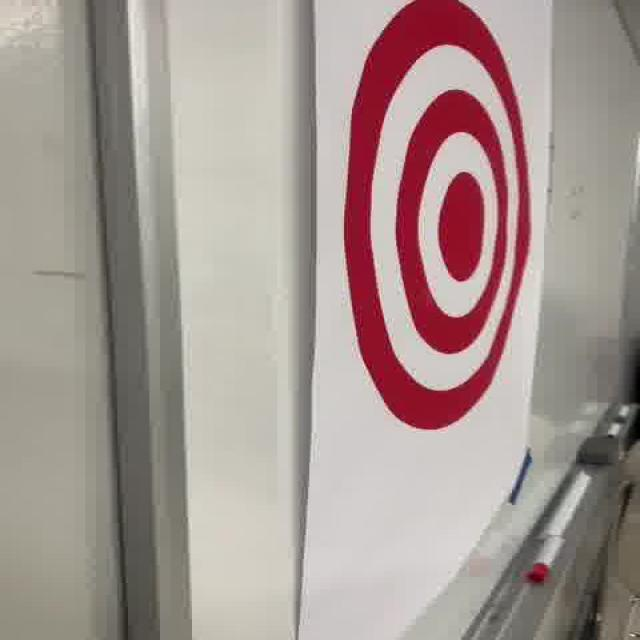target_red: (337, 0, 535, 430)
